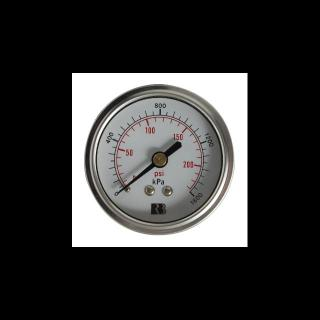gauge: (83, 84, 235, 236), (114, 180, 134, 198), (151, 150, 168, 168), (185, 186, 199, 202), (114, 188, 122, 196)
